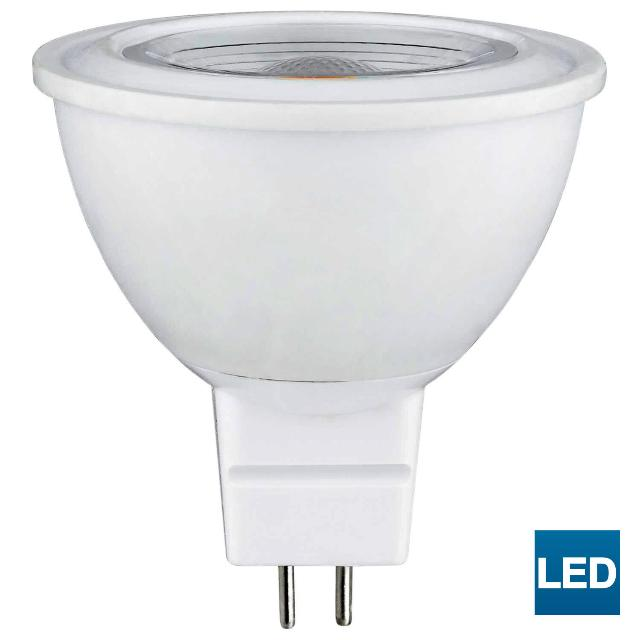light_bulb: (32, 12, 614, 630)
